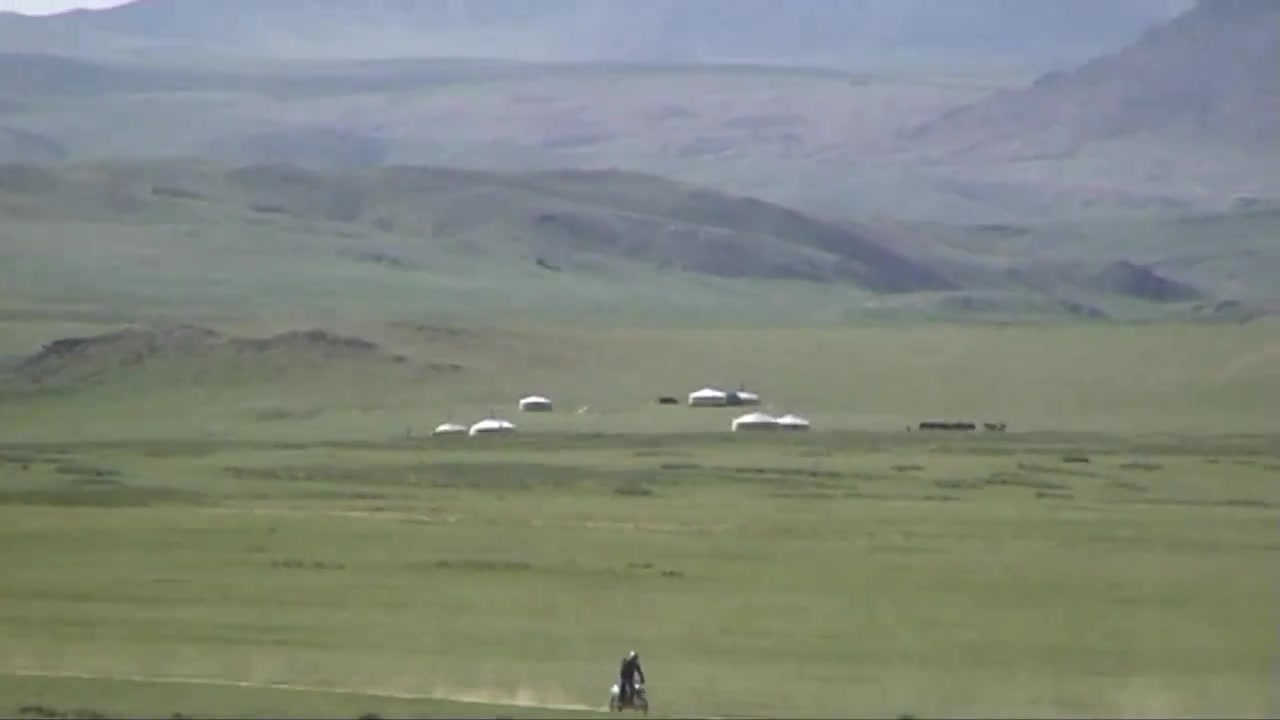motorbike: (603, 677, 657, 718)
